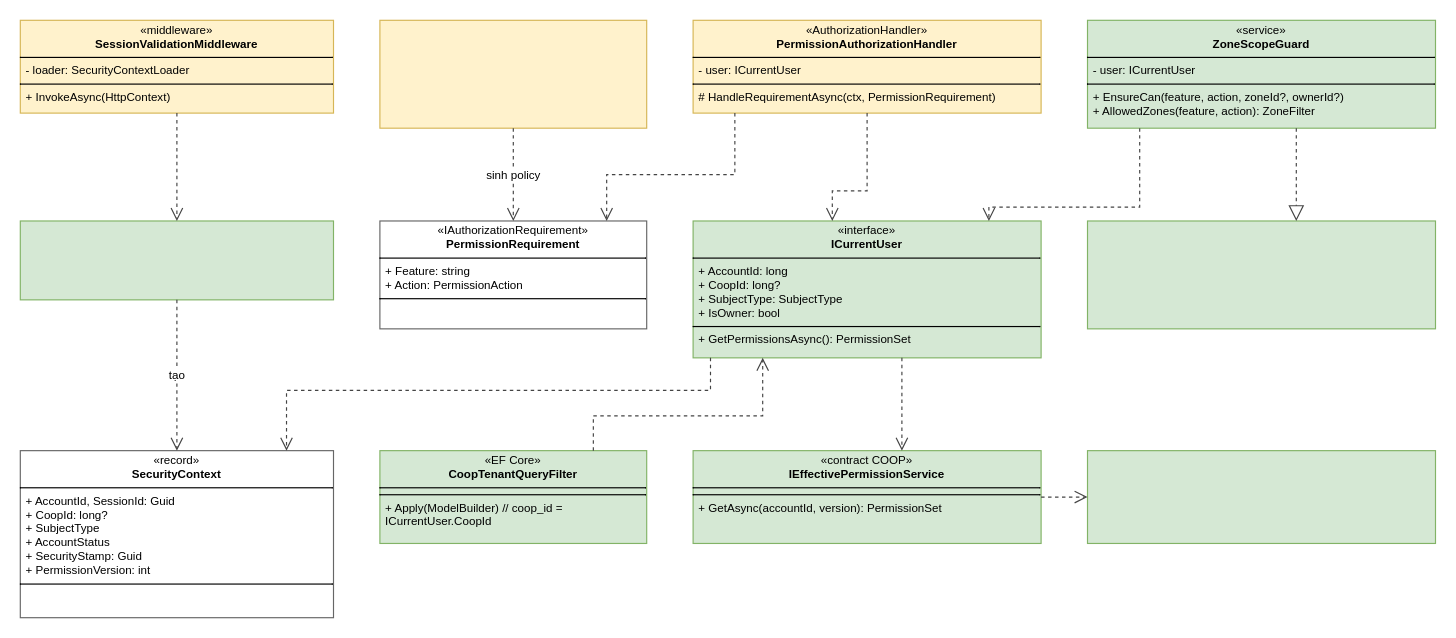
The diagram is 1456 pixels wide and 638 high, and some of its shapes have lost their labels. Each missing label, with the centre of its shape:
SecurityContextLoader + LoadAsync(sub, sid): SecurityContext?: point 176,260
«attribute» HasPermissionAttribute + Feature: string + Action: PermissionAction: point 513,73
«interface» IPermissionCache + GetOrAddAsync((accountId, version), factory): point 1261,496
«interface» IZoneScopeGuard + EnsureCan(...) + AllowedZones(...): point 1261,274
